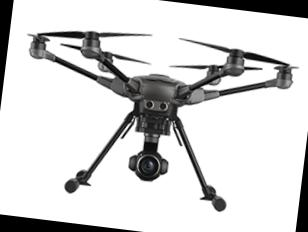drone: (17, 14, 308, 127)
